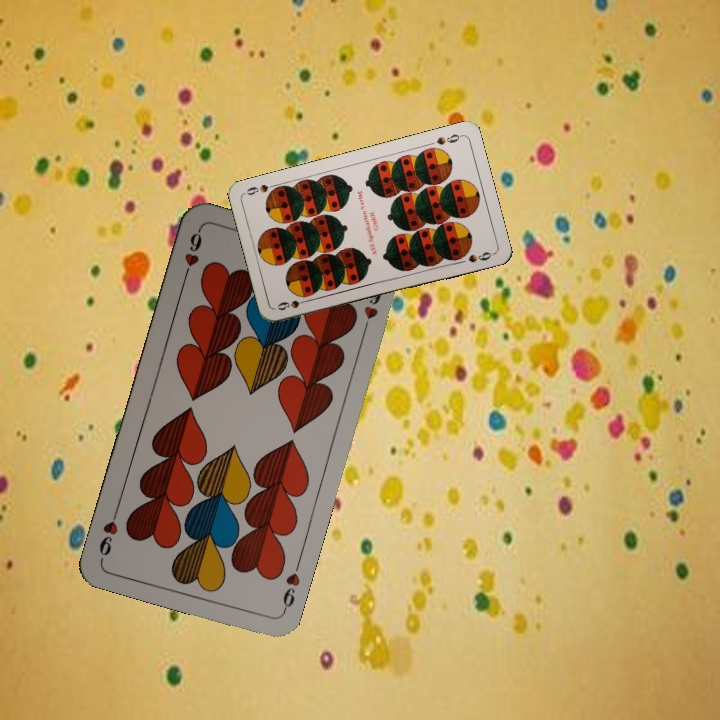H9: (179, 226, 205, 284), (278, 557, 303, 615)
S9: (273, 295, 313, 313), (432, 130, 464, 147)
